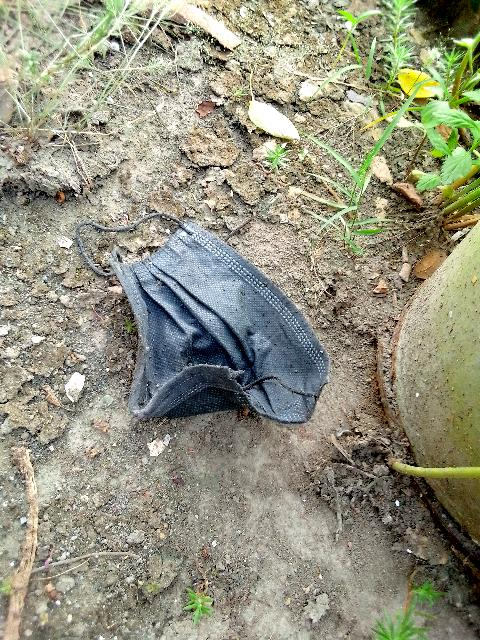mask: (111, 201, 360, 457)
